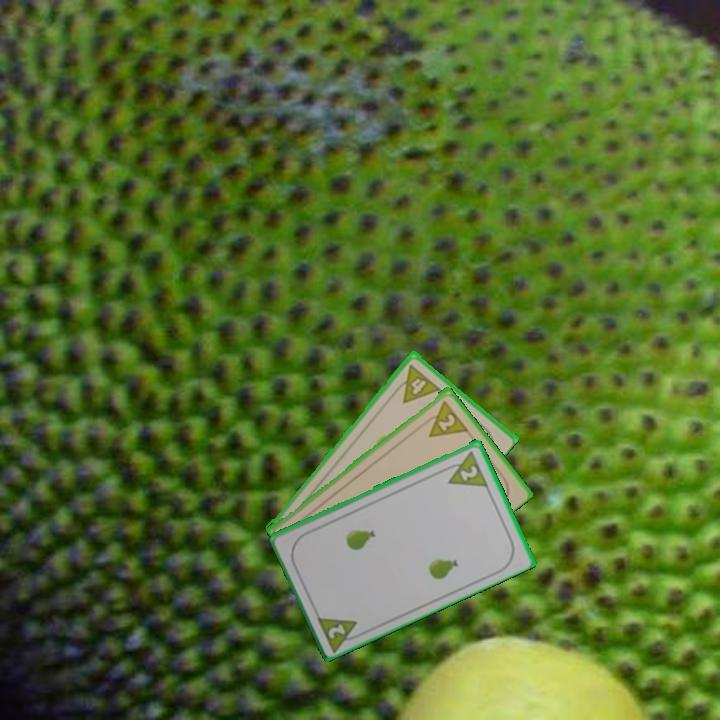2p: (418, 396, 470, 440), (440, 447, 491, 490), (324, 619, 349, 641)
4p: (390, 360, 442, 406)
